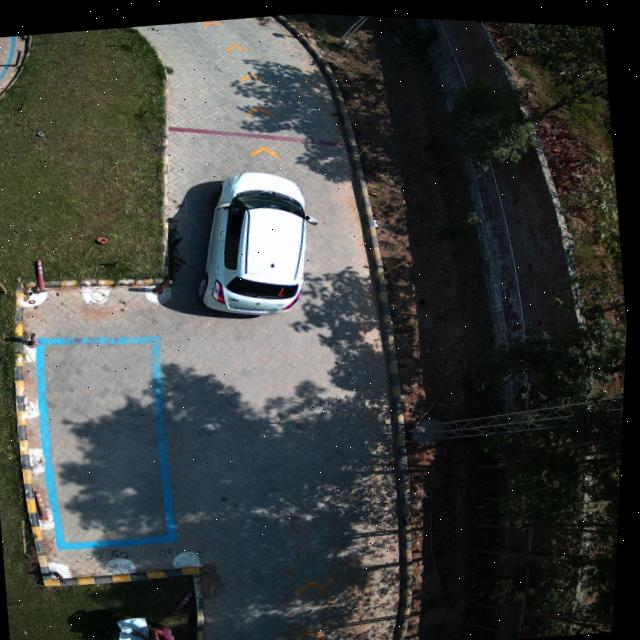car: (200, 169, 317, 313)
